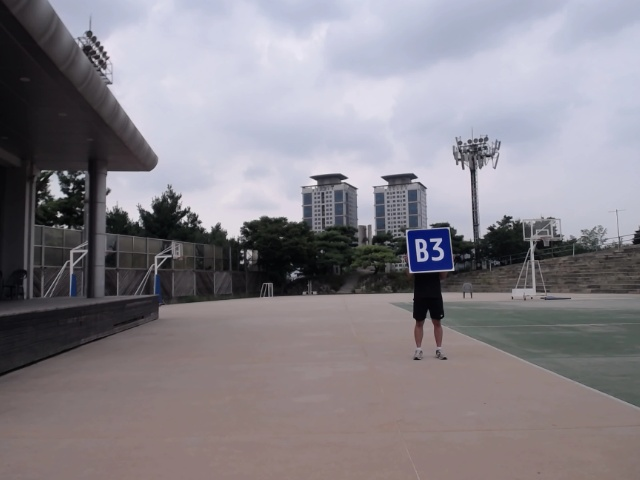delivery_b3: (404, 224, 458, 273)
